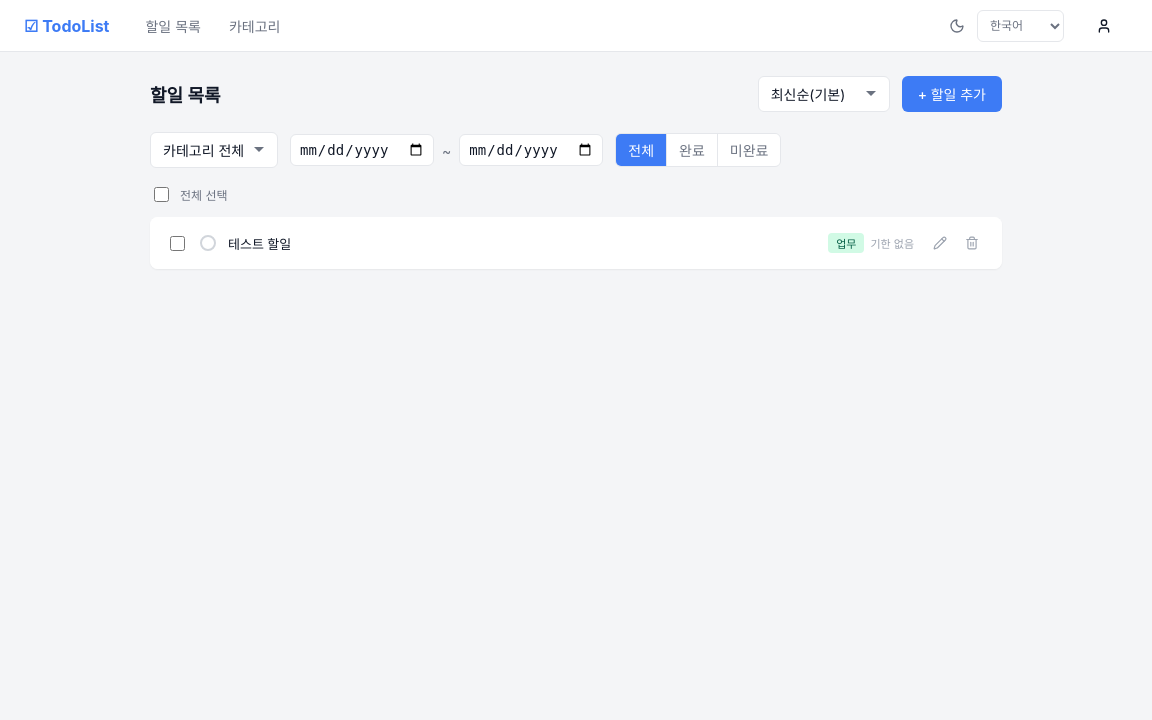
Scenario: 삭제 버튼 클릭 시 삭제 확인 Modal 표시
The width and height of the screenshot is (1152, 720).
Step 1. Click the button named "삭제" → (972, 243), box x1=958 y1=229 x2=986 y2=257
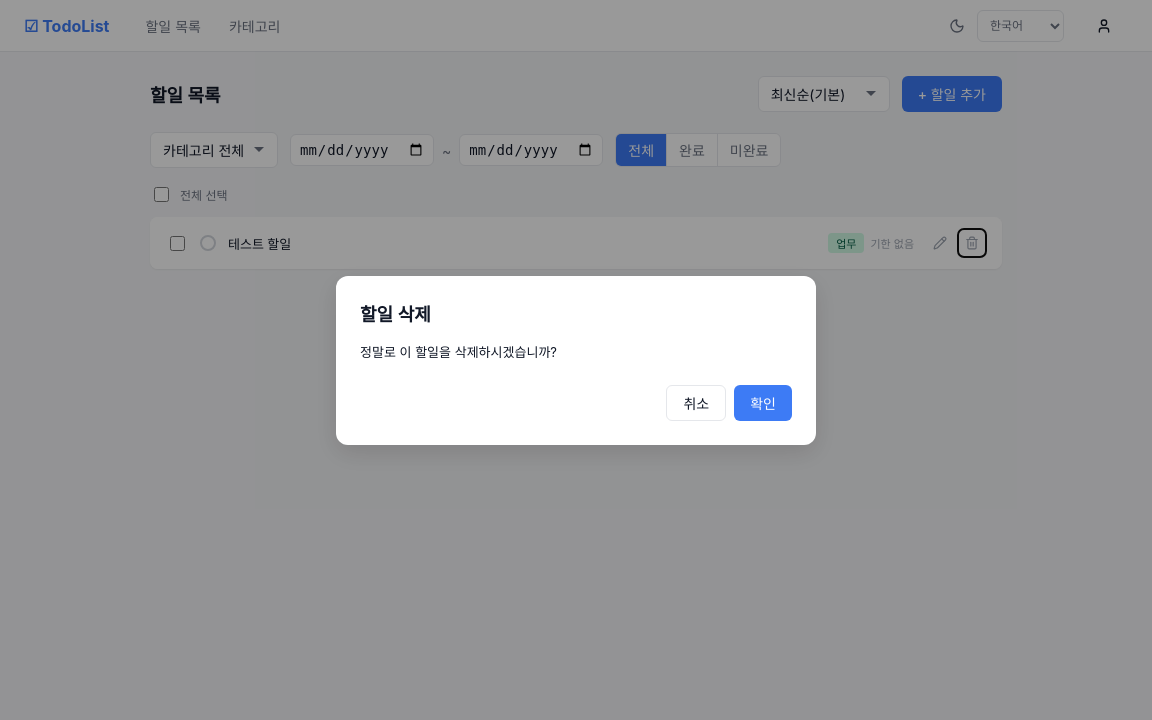
Expected: the heading "할일 삭제" is shown, x1=360 y1=304 x2=431 y2=324
